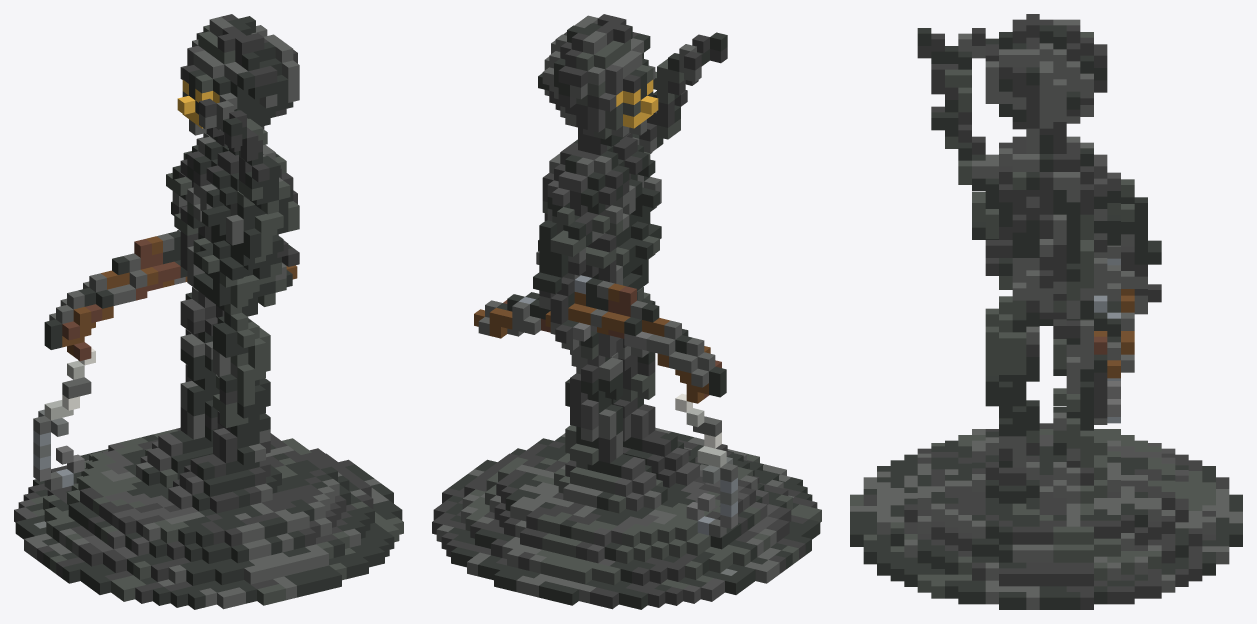
File: fishing_statue.obj
3 views of the same model, side by side, from view 1: azimuth 30°, elevation 25°; view 2: azimuth 150°, elevation 25°; view 3: azimuth 270°, elevation 25° (orthographic). The views are drawn at different scales.
Parts seen in each view (by area): view 1: fishing_statue; view 2: fishing_statue; view 3: fishing_statue.
Part boxes in pixels (x1,y1,x2,y2): fishing_statue: (14, 14, 403, 609); fishing_statue: (432, 14, 821, 609); fishing_statue: (850, 14, 1242, 609).
Bounding box in the file's own units: 2.9 × 4.2 × 2.9.
1 material, 1 textured.
